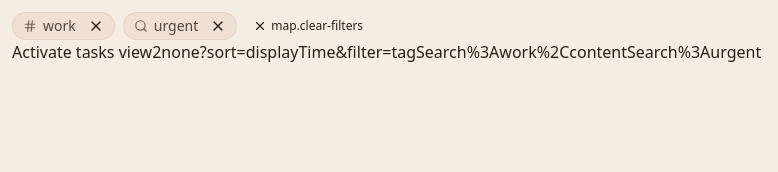
Test: memo filter bulk clear › clears combined search and label filters while retaining unrelated URL parameters
Click the button "map.clear-filters": (308, 26) 245,12 -> 371,40
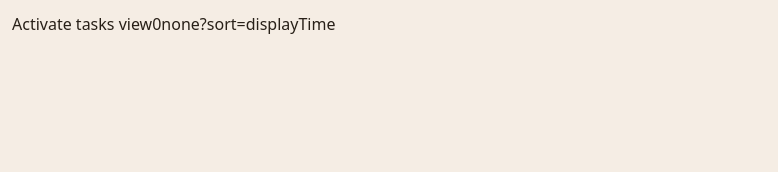
expect the text with test id "filter-count" reads "0": met, box 152,13 -> 161,35
expect the button "map.clear-filters" is gone: met
